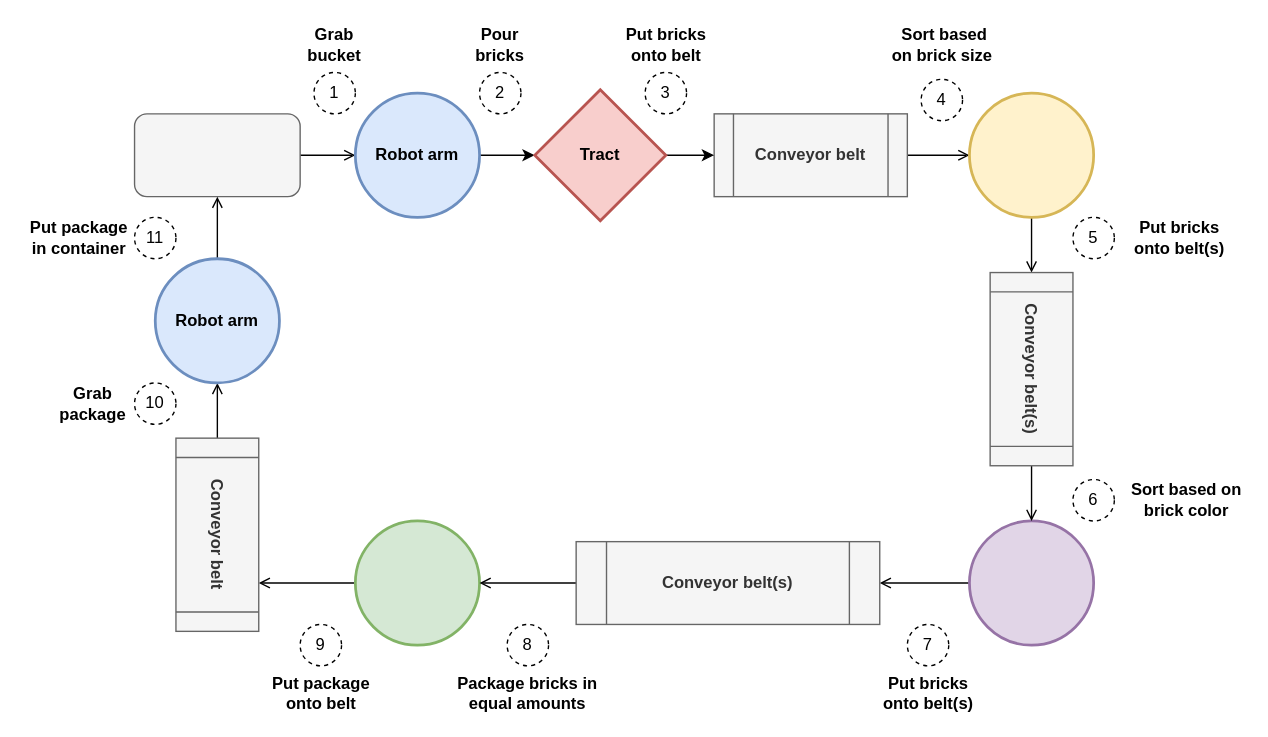
This 1268x737 diagram has some shape labels left out. Here are the shapes that lost their labels. From the top down, the centre of each, then its label:
At point 216,154: "Warehouse".
At point 1030,154: "Size sorting component".
At point 416,582: "Packaging component".
At point 1030,582: "Color sorting component".
